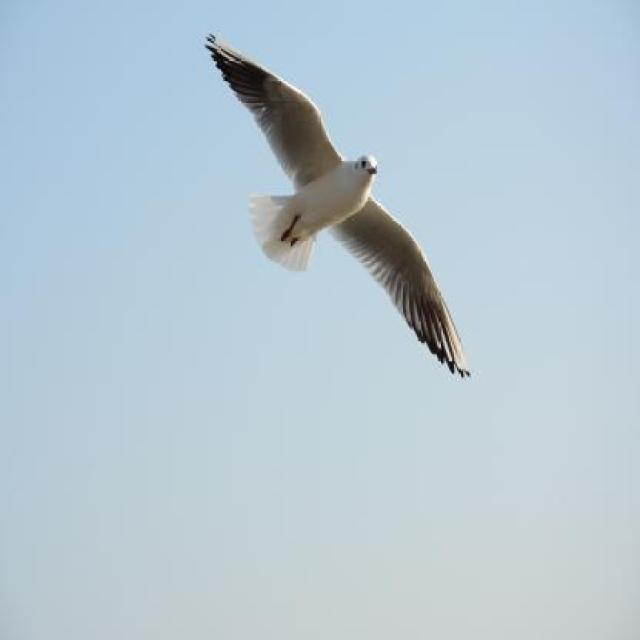bird: (204, 32, 471, 379)
